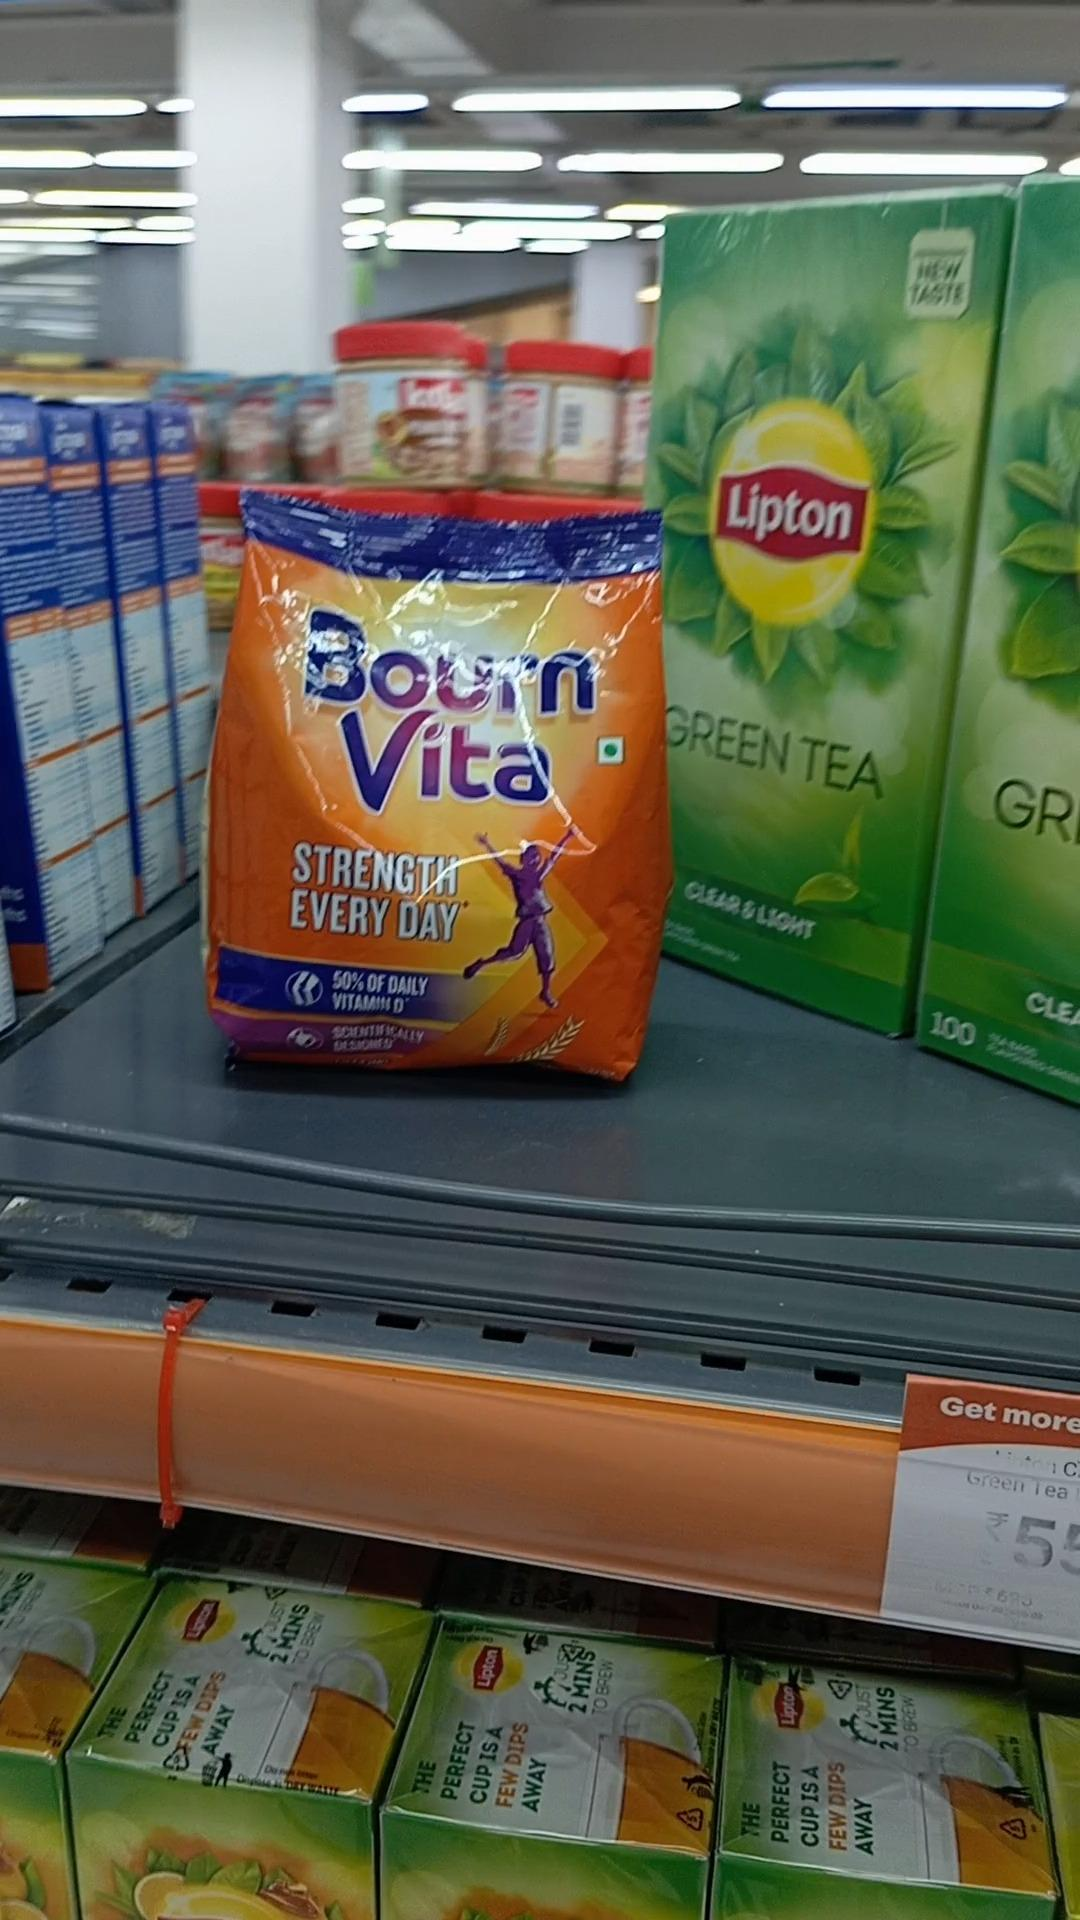BOURN_VITA_500_G_POUCH: (220, 465, 653, 1081)
